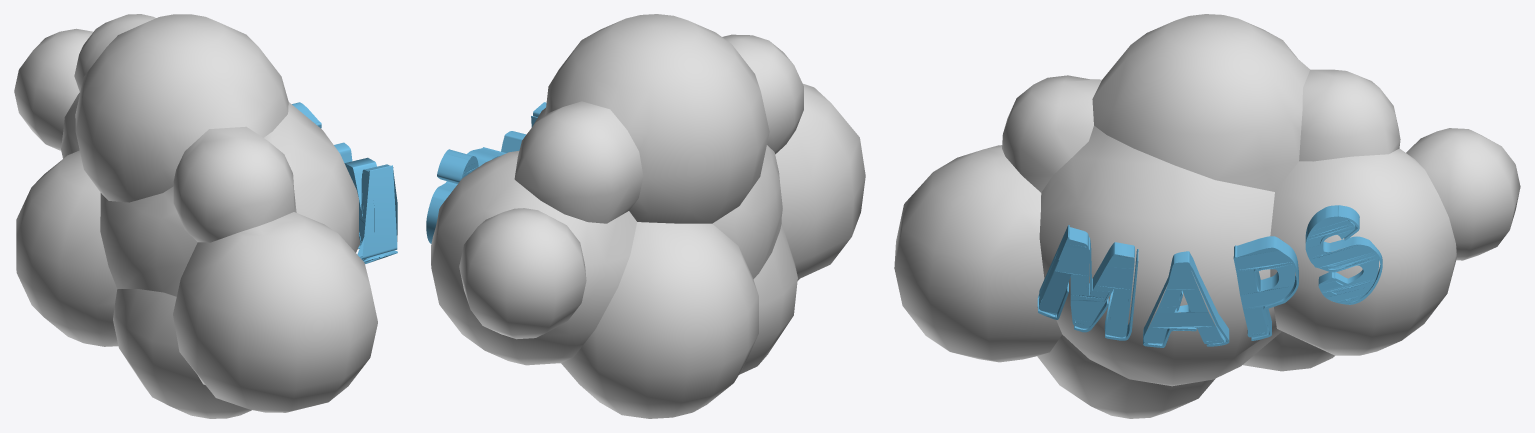
The model's file is cloud1.gltf.
3 views of the same model, side by side, from view 1: azimuth 30°, elevation 25°; view 2: azimuth 150°, elevation 25°; view 3: azimuth 270°, elevation 25° (orthographic). The views are drawn at different scales.
Parts seen in each view (by area): view 1: Object_2; view 2: Object_2; view 3: Object_2.
Part boxes in pixels (x1,y1,x2,y2): Object_2: (14, 14, 397, 418); Object_2: (426, 14, 865, 418); Object_2: (894, 14, 1520, 418).
Bounding box in the file's own units: 2.14 × 2.69 × 4.
